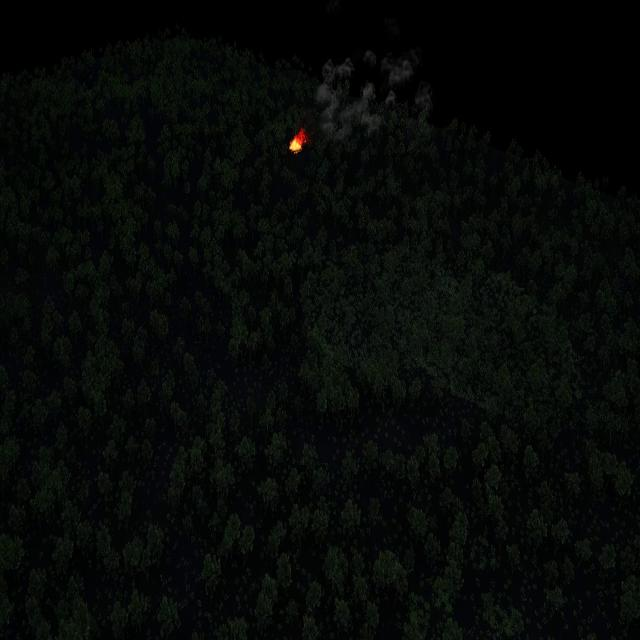fire: (288, 131, 306, 154)
smoke: (313, 49, 433, 139)
